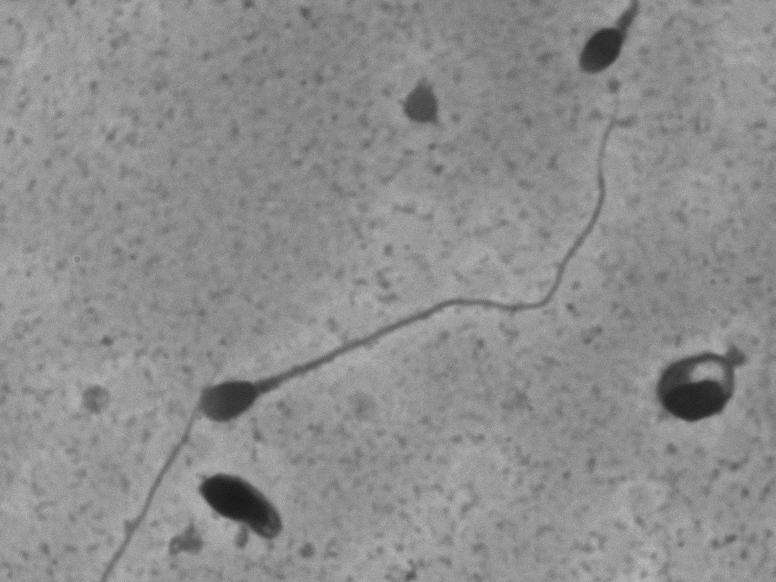Abnormal: (643, 339, 772, 447)
Normal: (192, 61, 632, 435)
